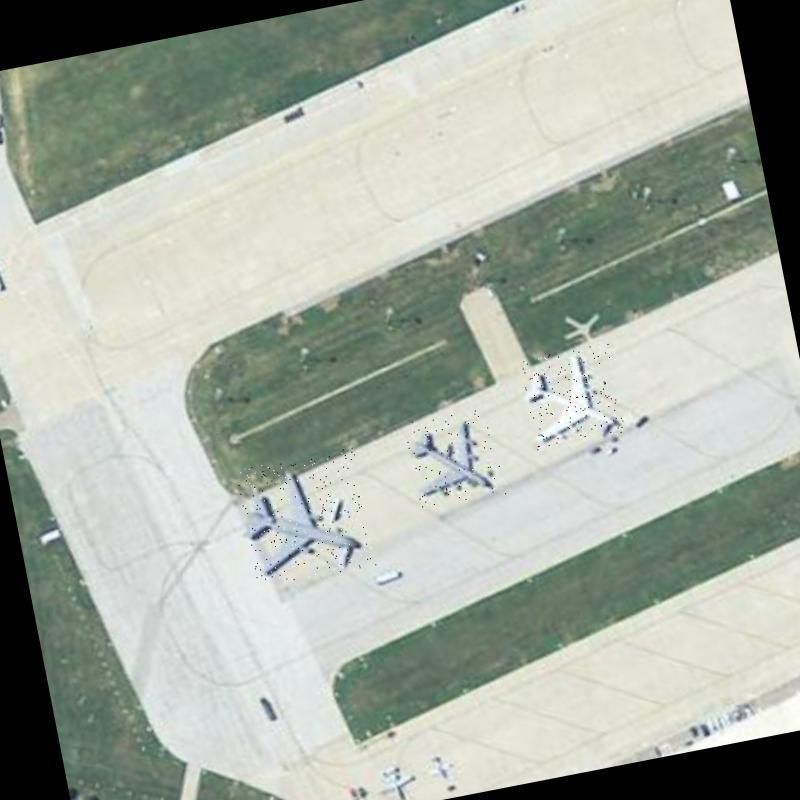A11: (518, 342, 626, 451)
A14: (404, 406, 506, 510)
A18: (234, 446, 376, 588)
